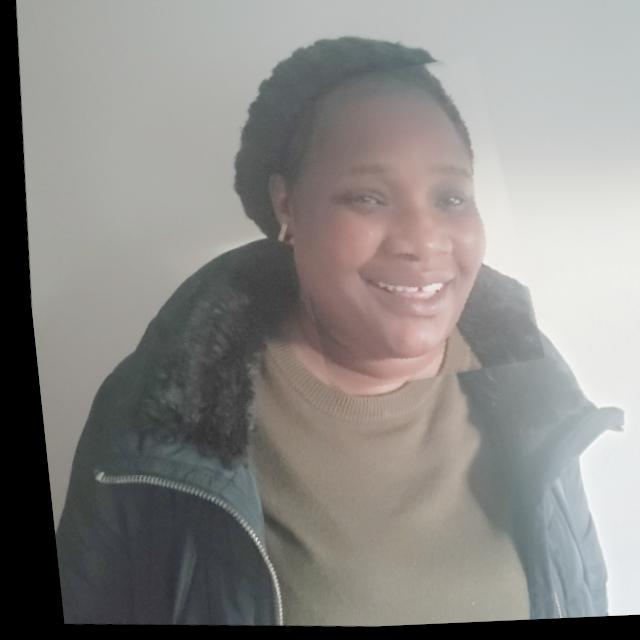happy: (255, 56, 542, 401)
